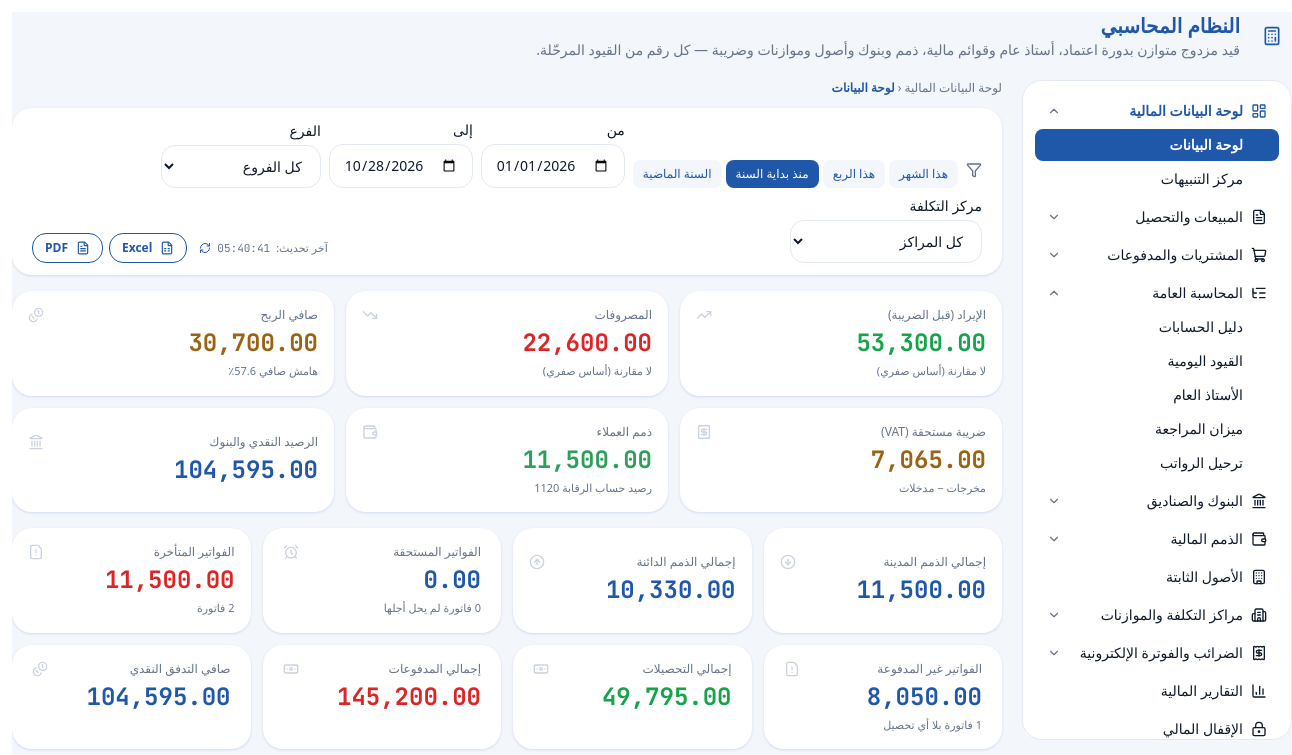
Test: accounting board (accountant) › groups the navigation into the 13 sections and opens the general ledger
This screenshot has width=1292, height=755.
Expected: the text "المبيعات والتحصيل" is shown, x1=1135 y1=207 x2=1267 y2=227
Expected: the text "البنوك والصناديق" is shown, x1=1147 y1=491 x2=1267 y2=511
Click the button "الأستاذ العام" at (1157,395), box x1=1035 y1=379 x2=1279 y2=411
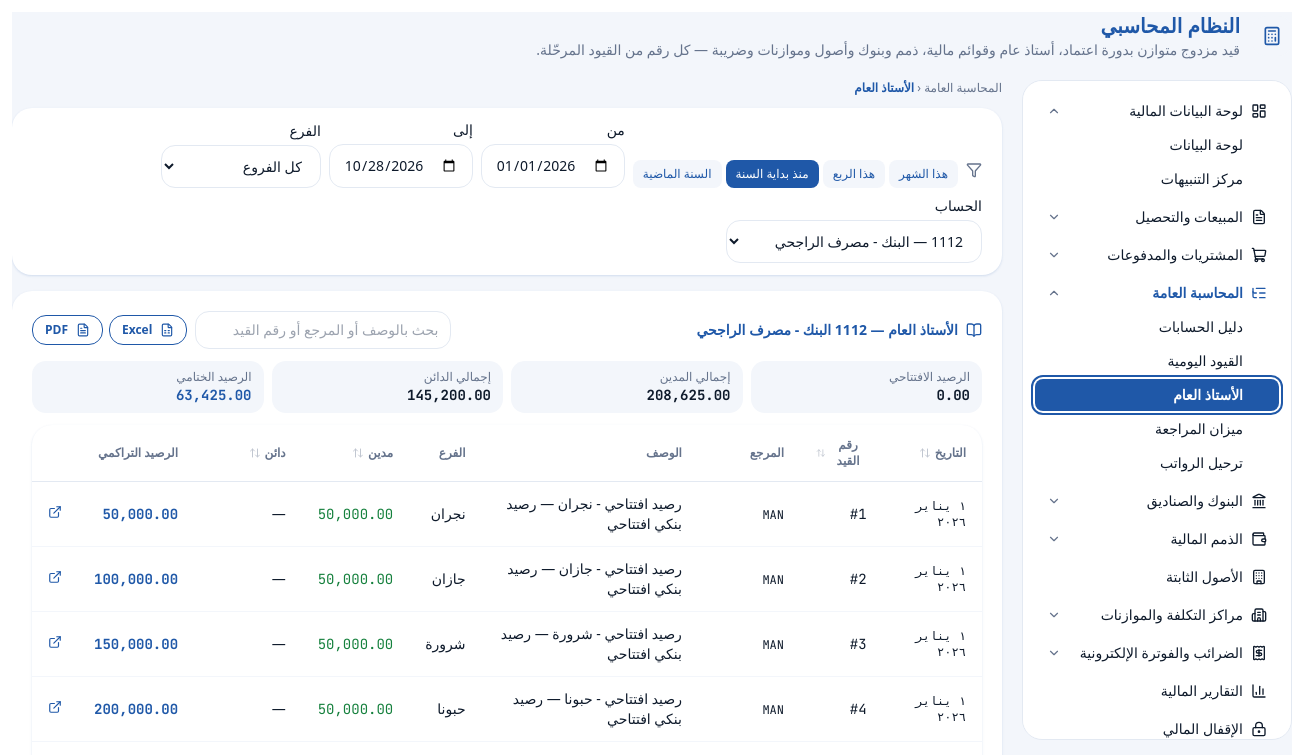
Now the text "الرصيد الافتتاحي" is shown, box x1=889 y1=368 x2=970 y2=385
